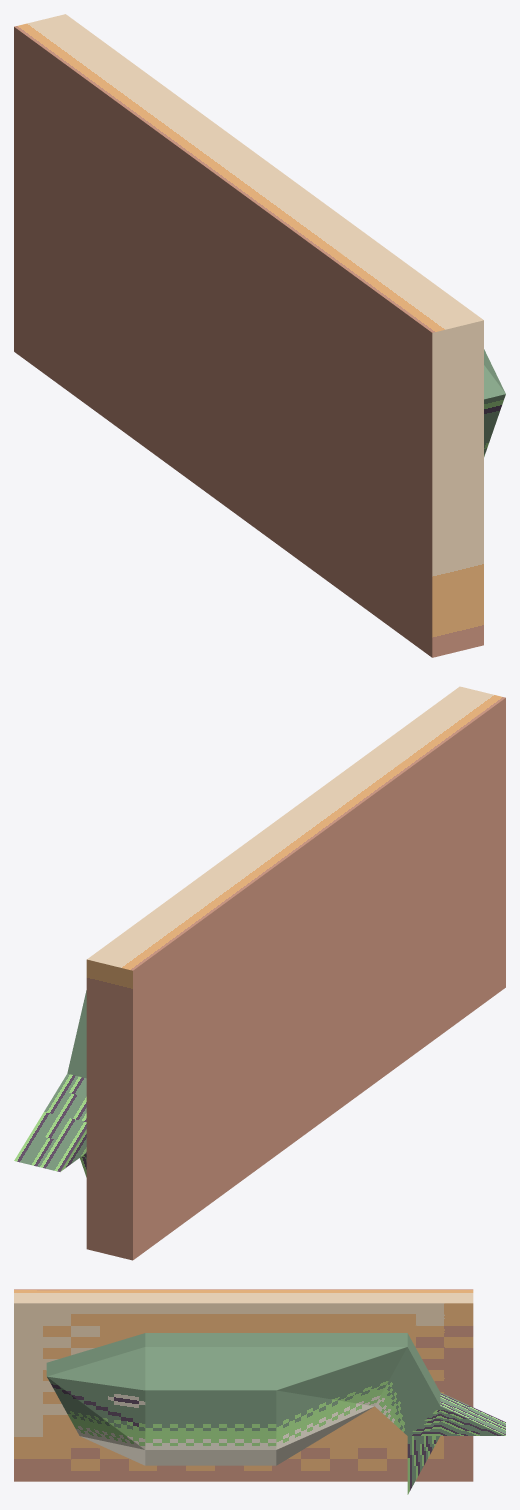
The model's file is FishOnTheWall.gltf.
3 renders of one model, top to bottom at view 1: azimuth 30°, elevation 25°; view 2: azimuth 150°, elevation 25°; view 3: azimuth 270°, elevation 25°, orthographic. The views are drawn at different scales.
Size of the model in its own units: 0.75 by 1.5 by 3.75.
1 material, 1 textured.
